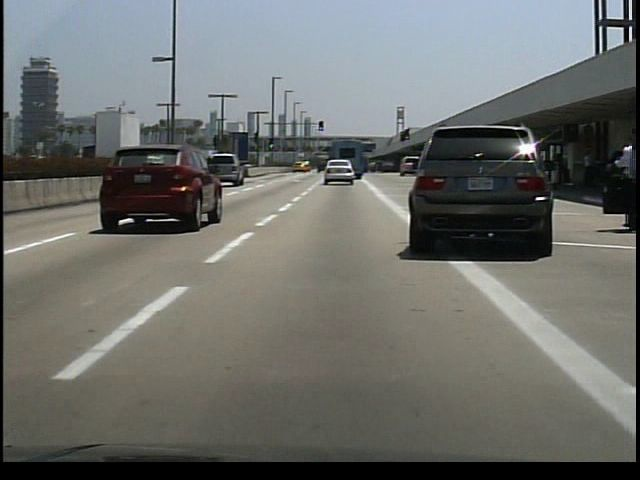person: (602, 129, 638, 229)
